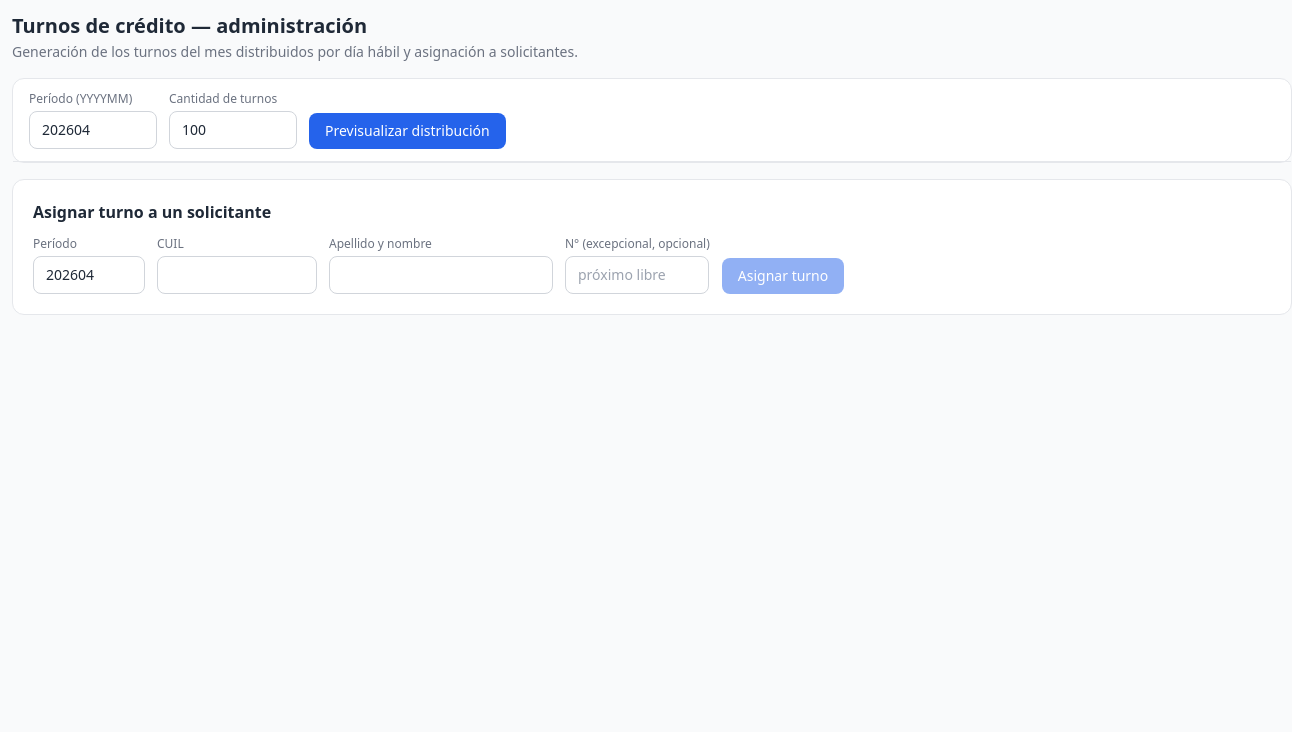
Test: Turnos de crédito · generación › arranca en el período del mes siguiente y previsualiza la distribución
expect the field labelled "Período (YYYYMM)" holds "202604": met, box [29,111,157,149]
Click the button "Previsualizar distribución" at (407, 131), box [309,113,506,149]
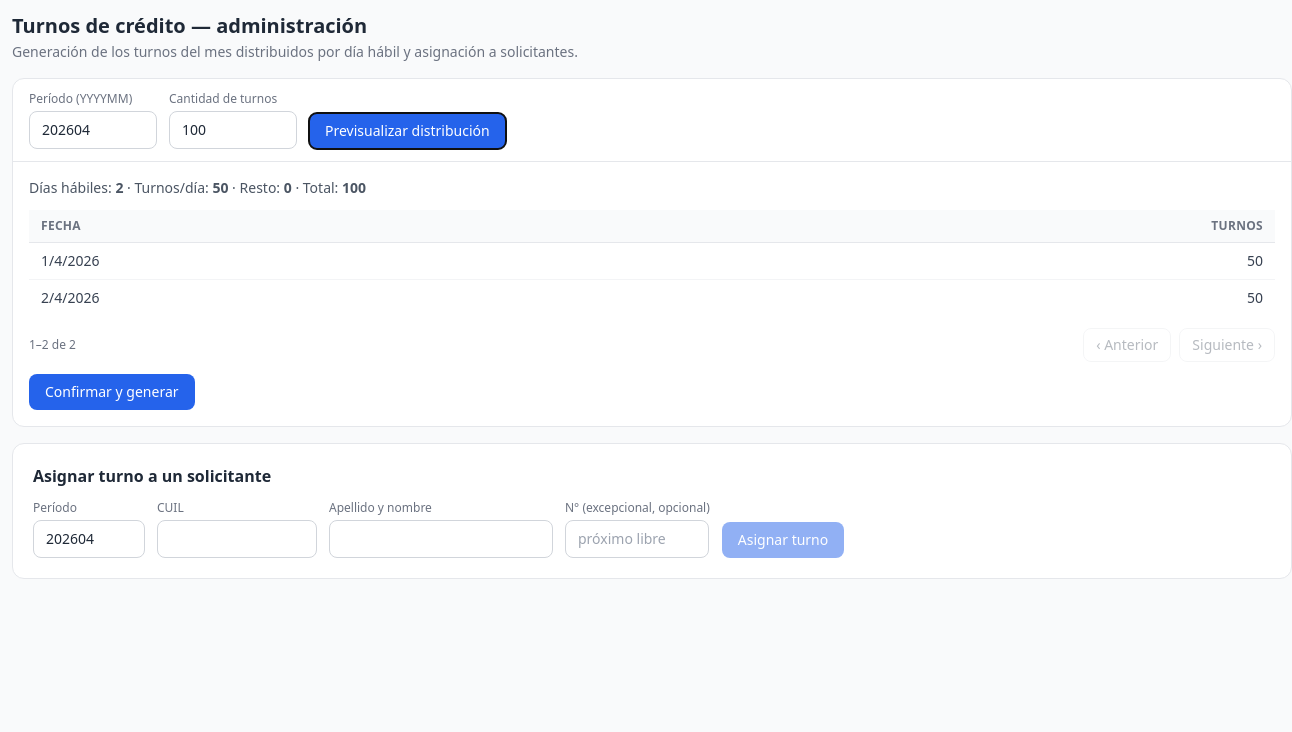
expect the text "Días hábiles: 2 · Turnos/día: 50 · Resto: 0 · Total: 100" is shown: met, box [29,178,366,197]
expect the text "1/4/2026" is shown: met, box [29,242,679,280]
